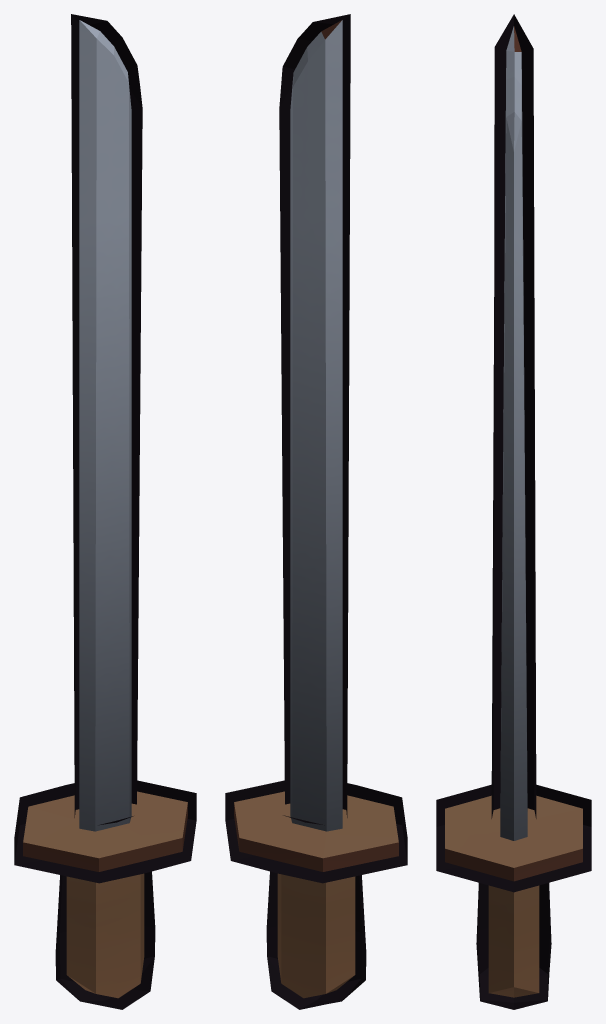
The model's file is MS_Sword.fbx.
The picture shows the model from 3 angles, left to right: view 1: azimuth 30°, elevation 25°; view 2: azimuth 150°, elevation 25°; view 3: azimuth 270°, elevation 25°; orthographic projection. The views are drawn at different scales.
Visible parts, largest first — view 1: Cube.004; view 2: Cube.004; view 3: Cube.004.
Boxes of the visible parts, x1,y1,x2,y2 form: Cube.004: [14, 14, 196, 1009]; Cube.004: [225, 14, 407, 1009]; Cube.004: [436, 14, 591, 1009].
Size of the model in its own units: 64.34 by 336 by 48.65.
2 materials, 1 textured.
